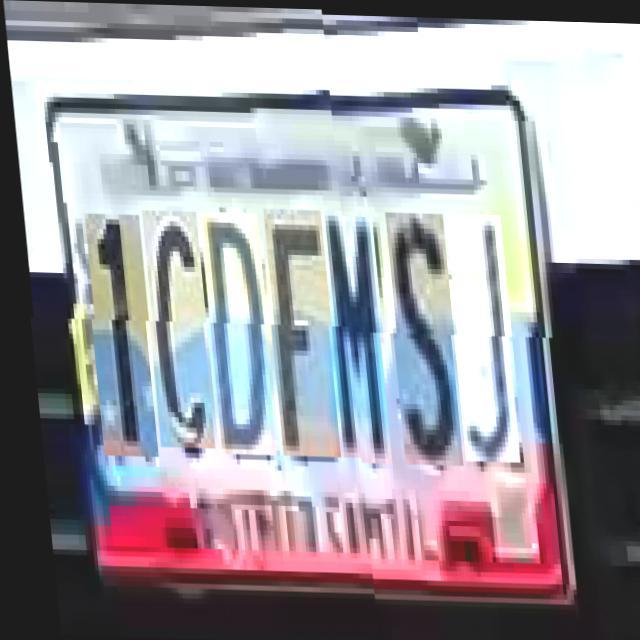1: (81, 218, 153, 461)
C: (138, 215, 210, 452)
D: (196, 216, 272, 459)
F: (260, 212, 336, 460)
J: (442, 212, 515, 459)
M: (317, 214, 387, 462)
S: (381, 210, 458, 463)
